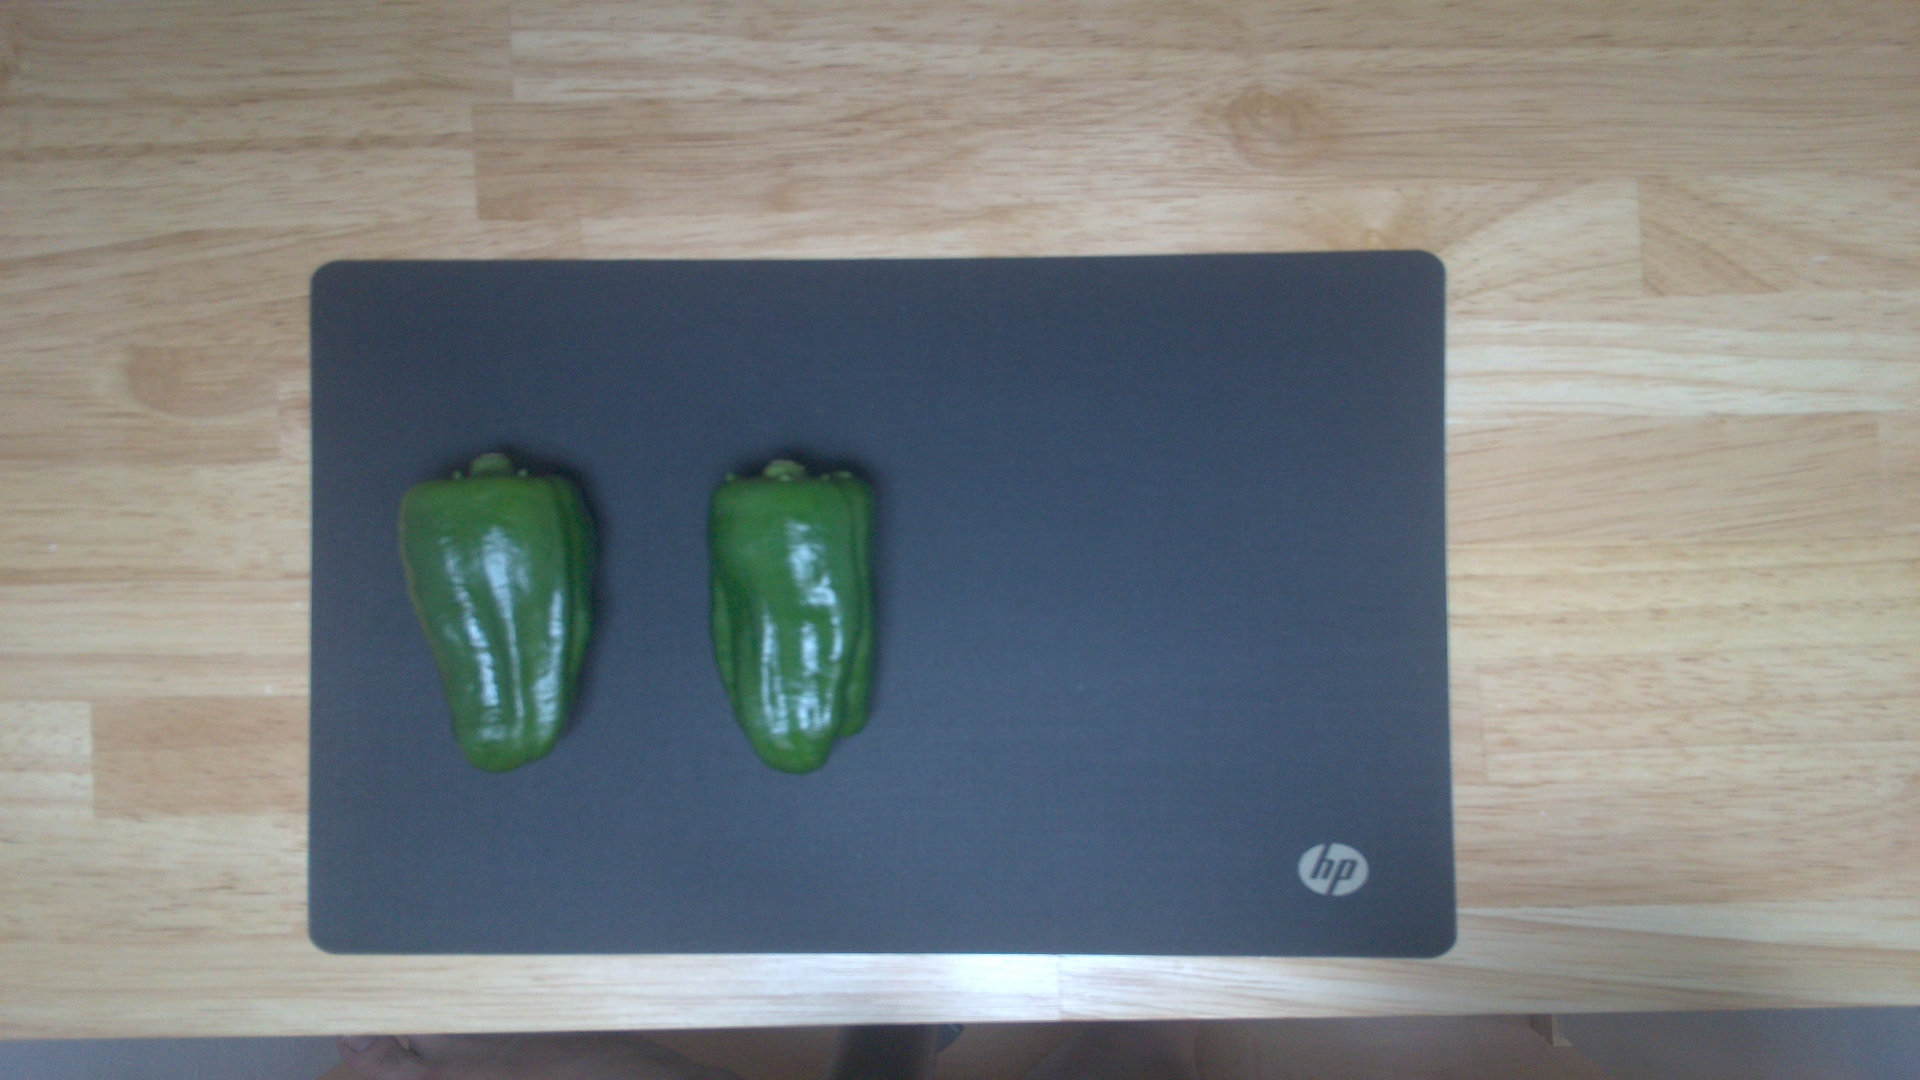Piman: (397, 444, 601, 774), (699, 454, 887, 775)
